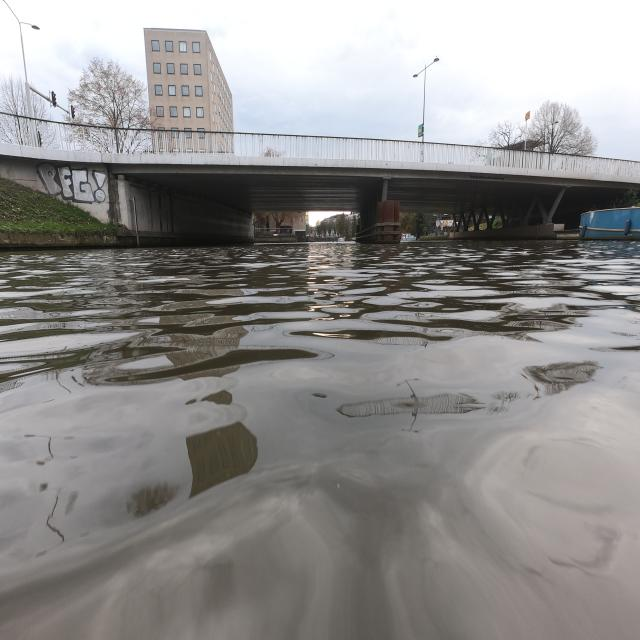boat: (579, 207, 640, 239)
dock: (2, 232, 136, 246)
grass: (0, 182, 124, 232)
sky: (132, 8, 638, 134), (4, 4, 144, 108)
wall: (0, 152, 254, 246)
water: (8, 244, 632, 640)
